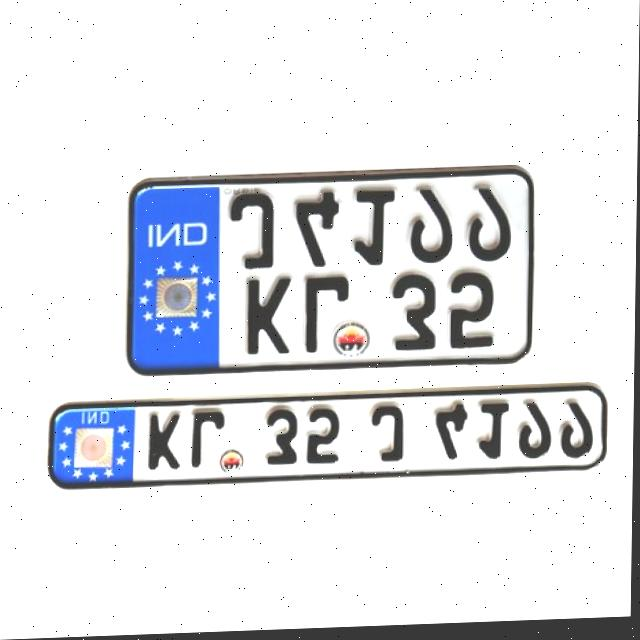plate: (120, 167, 542, 382), (40, 379, 613, 498)
